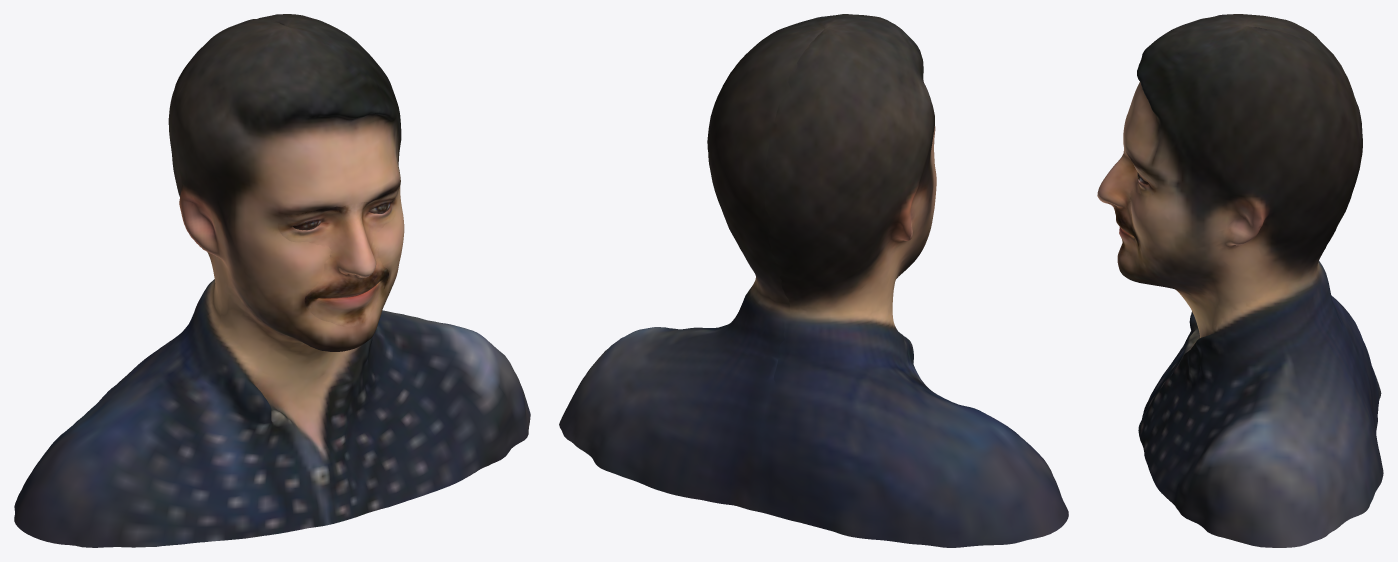
File: RobertoGonzalez.gltf
3 views of the same model, side by side, from view 1: azimuth 30°, elevation 25°; view 2: azimuth 150°, elevation 25°; view 3: azimuth 270°, elevation 25° (orthographic). The views are drawn at different scales.
Visible parts, largest first — view 1: RobertoGonzalez; view 2: RobertoGonzalez; view 3: RobertoGonzalez.
Part boxes in pixels (left/top/right/bottom): RobertoGonzalez: left=14, top=14, right=530, bottom=547; RobertoGonzalez: left=559, top=14, right=1068, bottom=547; RobertoGonzalez: left=1097, top=14, right=1383, bottom=547.
Bounding box in the file's own units: 9.84 × 8.39 × 5.29.
1 material, 1 textured.
